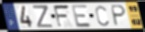4: (19, 5, 34, 29)
C: (94, 5, 110, 27)
E: (71, 4, 93, 29)
F: (52, 4, 71, 29)
P: (110, 5, 127, 27)
Z: (32, 5, 54, 29)
